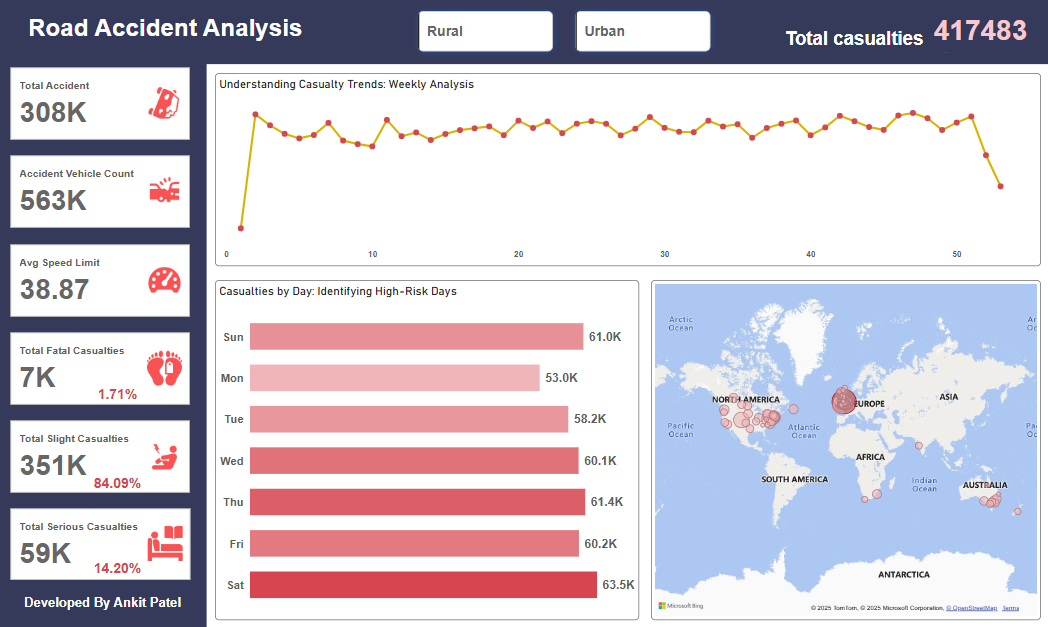

This screenshot's page, from the dashboard's own definition file:
{"tool":"powerbi","page":{"name":"Page 2","canvas":[1500,900],"ordinal":1},"visuals":[{"type":"shape","box":[1204.3,432.9,295.7,467.1],"z":0},{"type":"shape","box":[0,0,1500,93.3],"z":1000},{"type":"shape","box":[0,0,298.3,900],"z":2000},{"type":"actionButton","title":"Road Accident Analysis","box":[38.6,12.9,408.6,40],"z":3000},{"type":"cardVisual","fields":{"Data":["Measure Table.Total Accident"]},"box":[13.3,93.3,266.7,113.3],"z":4000},{"type":"cardVisual","fields":{"Data":["Measure Table.Total Fatal Casualties"]},"box":[13.3,471,266.7,113.3],"z":5000},{"type":"cardVisual","fields":{"Data":["Measure Table.Total Serious Casualties"]},"box":[12.9,722.9,267.1,112.9],"z":6000},{"type":"cardVisual","fields":{"Data":["Measure Table.Total Slight Casualties"]},"box":[13.3,597,266.7,113.3],"z":7000},{"type":"cardVisual","fields":{"Data":["Measure Table.Accident Vehicle Count"]},"box":[13.3,219.2,266.7,113.3],"z":8000},{"type":"cardVisual","fields":{"Data":["Measure Table.Avg Speed Limit"]},"box":[13.3,345.1,266.7,113.3],"z":9000},{"type":"card","fields":{"Values":["Measure Table.Slight %"]},"box":[117.1,678.6,107.1,27.1],"z":10000},{"type":"card","fields":{"Values":["Measure Table.Serious %"]},"box":[117.1,800,107.1,27.1],"z":11000},{"type":"card","fields":{"Values":["Measure Table.Deaths %"]},"box":[117.1,550,107.1,31.4],"z":12000},{"type":"card","fields":{"Values":["Measure Table.Total casualties"]},"box":[1317.1,24.3,172.9,57.1],"z":13000},{"type":"actionButton","title":"Total casualties","box":[1115.7,41.4,214.3,40],"z":14000},{"type":"actionButton","title":"Developed By Ankit Patel","box":[0,851.4,298.6,28.6],"z":15000},{"type":"advancedSlicerVisual","fields":{"Values":["Road Accident Dataa.Urban_or_Rural_Area"]},"box":[582.9,0,452.9,92.9],"z":17000},{"type":"image","box":[1204.3,814.3,112.9,85.7],"z":18001},{"type":"image","box":[1204.3,430,112.9,85.7],"z":18002},{"type":"image","box":[1204.3,522.9,112.9,80],"z":18003},{"type":"image","box":[1204.3,711.4,112.9,95.7],"z":18004},{"type":"image","box":[1204.3,610,112.9,94.3],"z":18005},{"type":"card","fields":{"Values":["Measure Table.Car"]},"box":[1330,437.1,170,75.7],"z":18006},{"type":"shape","box":[1317.1,460,28.6,31.4],"z":18007},{"type":"shape","box":[1317.1,550,28.6,31.4],"z":18008},{"type":"shape","box":[1317.1,641.4,28.6,31.4],"z":18009},{"type":"shape","box":[1315.7,747.1,28.6,31.4],"z":18010},{"type":"shape","box":[1317.1,841.4,28.6,31.4],"z":18011},{"type":"card","fields":{"Values":["Measure Table.Bus"]},"box":[1331.4,731.4,168.6,57.1],"z":18012},{"type":"card","fields":{"Values":["Measure Table.Other"]},"box":[1337.1,821.4,162.9,70],"z":18013},{"type":"card","fields":{"Values":["Measure Table.Motorcycle"]},"box":[1331.4,625.7,168.6,67.1],"z":18014},{"type":"card","fields":{"Values":["Measure Table.Agricultural"]},"box":[1331.4,527.1,168.6,75.7],"z":18015},{"type":"tableEx","fields":{"Values":["Road Accident Dataa.Hour","Measure Table.Total Accident","Measure Table.Total Fatal Casualties","Measure Table.Total Serious Casualties","Measure Table.Total Slight Casualties"]},"box":[310,122.9,572.9,750],"z":18016},{"type":"donutChart","title":"Casualties by Area","fields":{"Category":["Road Accident Dataa.Urban_or_Rural_Area"],"Y":["Measure Table.Total casualties"]},"box":[894.3,430,297.1,442.9],"z":18017},{"type":"donutChart","title":"Casualties Over the Years","fields":{"Y":["Measure Table.Total casualties"],"Category":["Date Table.Year"]},"box":[894.3,121.4,594.3,295.7],"z":18018}]}

Visuals, with their boxes in screenshot pixels (x1, y1, x2, y2), scaled from the page's 1500x900 canvas onto the 1048x627 screenshot:
shape: {"left": 841, "top": 302, "right": 1047, "bottom": 626}
shape: {"left": 0, "top": 0, "right": 1047, "bottom": 65}
shape: {"left": 0, "top": 0, "right": 208, "bottom": 626}
"Road Accident Analysis" actionButton: {"left": 27, "top": 9, "right": 312, "bottom": 37}
cardVisual - Measure Table.Total Accident: {"left": 9, "top": 65, "right": 196, "bottom": 144}
cardVisual - Measure Table.Total Fatal Casualties: {"left": 9, "top": 328, "right": 196, "bottom": 407}
cardVisual - Measure Table.Total Serious Casualties: {"left": 9, "top": 504, "right": 196, "bottom": 582}
cardVisual - Measure Table.Total Slight Casualties: {"left": 9, "top": 416, "right": 196, "bottom": 495}
cardVisual - Measure Table.Accident Vehicle Count: {"left": 9, "top": 153, "right": 196, "bottom": 232}
cardVisual - Measure Table.Avg Speed Limit: {"left": 9, "top": 240, "right": 196, "bottom": 319}
card - Measure Table.Slight %: {"left": 82, "top": 473, "right": 157, "bottom": 492}
card - Measure Table.Serious %: {"left": 82, "top": 557, "right": 157, "bottom": 576}
card - Measure Table.Deaths %: {"left": 82, "top": 383, "right": 157, "bottom": 405}
card - Measure Table.Total casualties: {"left": 920, "top": 17, "right": 1041, "bottom": 57}
"Total casualties" actionButton: {"left": 780, "top": 29, "right": 929, "bottom": 57}
"Developed By Ankit Patel" actionButton: {"left": 0, "top": 593, "right": 209, "bottom": 613}
advancedSlicerVisual - Road Accident Dataa.Urban_or_Rural_Area: {"left": 407, "top": 0, "right": 724, "bottom": 65}
image: {"left": 841, "top": 567, "right": 920, "bottom": 626}
image: {"left": 841, "top": 300, "right": 920, "bottom": 359}
image: {"left": 841, "top": 364, "right": 920, "bottom": 420}
image: {"left": 841, "top": 496, "right": 920, "bottom": 562}
image: {"left": 841, "top": 425, "right": 920, "bottom": 491}
card - Measure Table.Car: {"left": 929, "top": 305, "right": 1047, "bottom": 357}
shape: {"left": 920, "top": 320, "right": 940, "bottom": 342}
shape: {"left": 920, "top": 383, "right": 940, "bottom": 405}
shape: {"left": 920, "top": 447, "right": 940, "bottom": 469}
shape: {"left": 919, "top": 520, "right": 939, "bottom": 542}
shape: {"left": 920, "top": 586, "right": 940, "bottom": 608}
card - Measure Table.Bus: {"left": 930, "top": 510, "right": 1047, "bottom": 549}
card - Measure Table.Other: {"left": 934, "top": 572, "right": 1047, "bottom": 621}
card - Measure Table.Motorcycle: {"left": 930, "top": 436, "right": 1047, "bottom": 483}
card - Measure Table.Agricultural: {"left": 930, "top": 367, "right": 1047, "bottom": 420}
tableEx - Road Accident Dataa.Hour x Measure Table.Total Accident: {"left": 217, "top": 86, "right": 617, "bottom": 608}
"Casualties by Area" donutChart: {"left": 625, "top": 300, "right": 832, "bottom": 608}
"Casualties Over the Years" donutChart: {"left": 625, "top": 85, "right": 1040, "bottom": 291}
